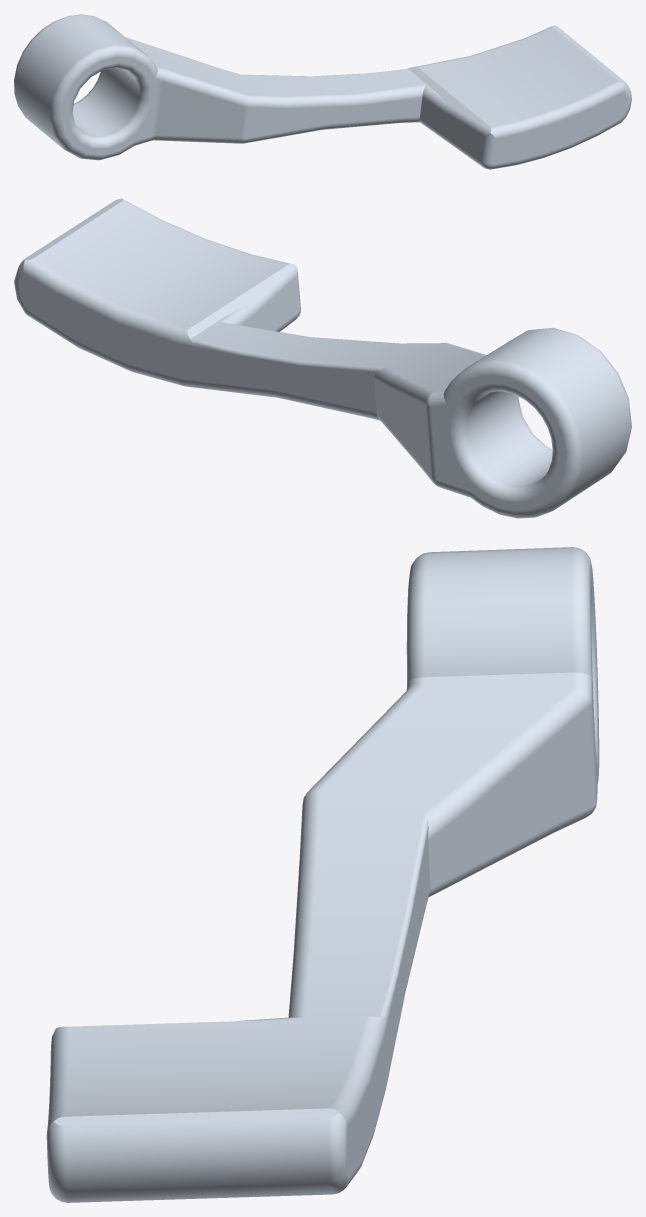
File: RB-005_viewer.glb
3 views of the same model, one above another, from view 1: azimuth 30°, elevation 25°; view 2: azimuth 150°, elevation 25°; view 3: azimuth 270°, elevation 25° (orthographic). The views are drawn at different scales.
Visible parts, largest first — view 1: basebody_imported1; view 2: basebody_imported1; view 3: basebody_imported1.
Part boxes in pixels (bbox=[...]): basebody_imported1: bbox=[14, 14, 631, 169]; basebody_imported1: bbox=[14, 198, 631, 518]; basebody_imported1: bbox=[46, 547, 599, 1202].
Bounding box in the file's own units: 0.0092 × 0.00241 × 0.0045.
